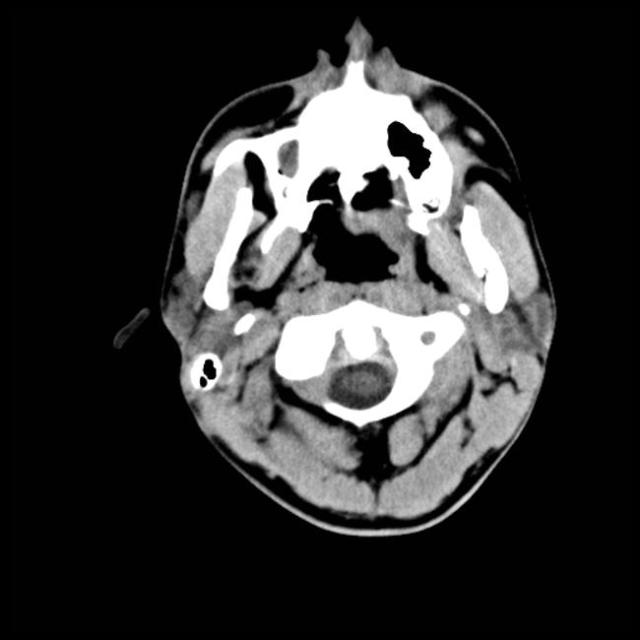lesion: (150, 19, 560, 536)
